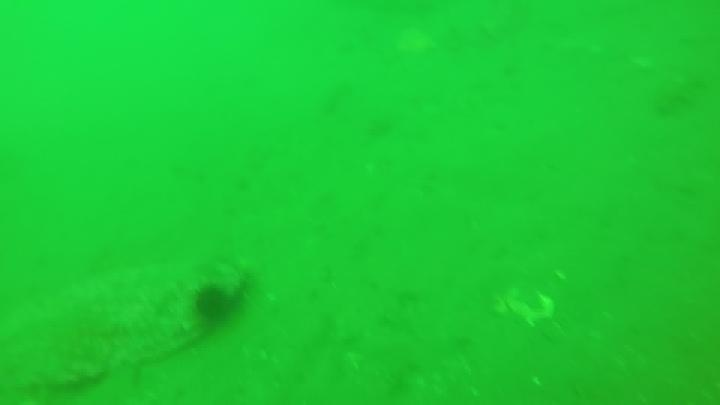echinus: (191, 283, 234, 327)
